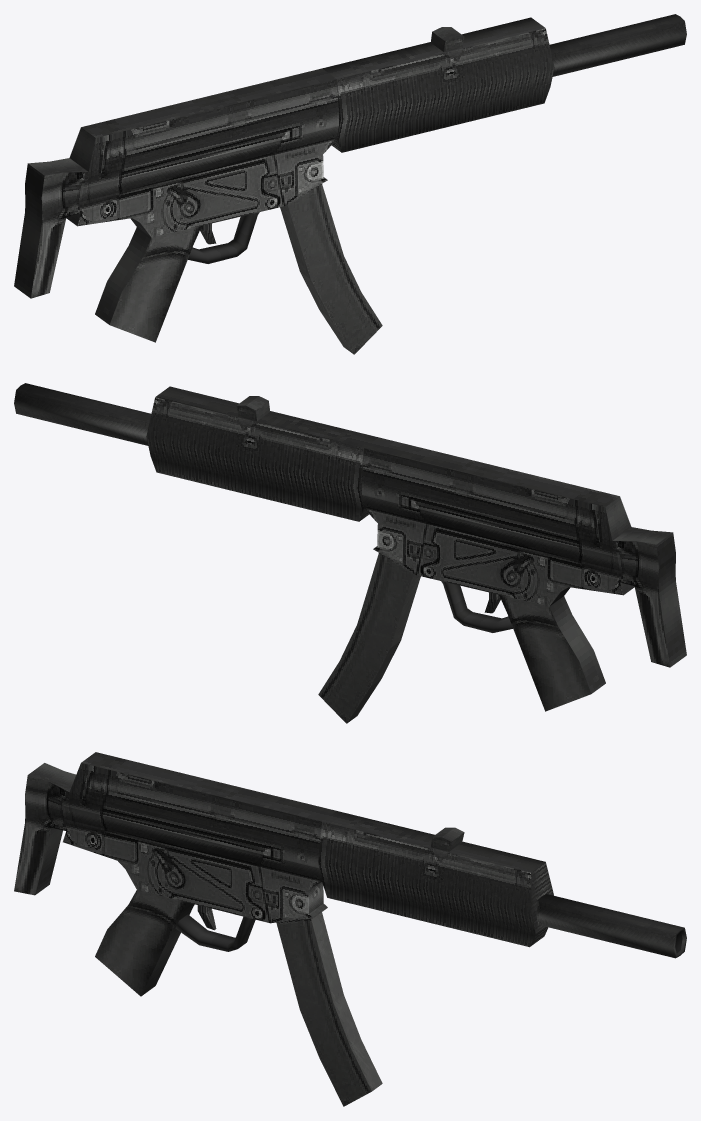
File: Submachine_Gun.glb
3 renders of one model, top to bottom at view 1: azimuth 30°, elevation 25°; view 2: azimuth 150°, elevation 25°; view 3: azimuth 330°, elevation 25°, orthographic.
Visible parts, largest first — view 1: Submachine_Gun, Magazine.002; view 2: Submachine_Gun, Magazine.002; view 3: Submachine_Gun, Magazine.002.
Part boxes in pixels (x1,y1,x2,y2): Submachine_Gun: [14, 14, 686, 342]; Magazine.002: [280, 184, 382, 354]; Submachine_Gun: [14, 383, 686, 711]; Magazine.002: [318, 553, 420, 723]; Submachine_Gun: [14, 752, 686, 996]; Magazine.002: [276, 912, 382, 1106].
Bounding box in the file's own units: 0.6289 × 0.2694 × 0.0384.
Materials: 1 (1 with a texture image).
